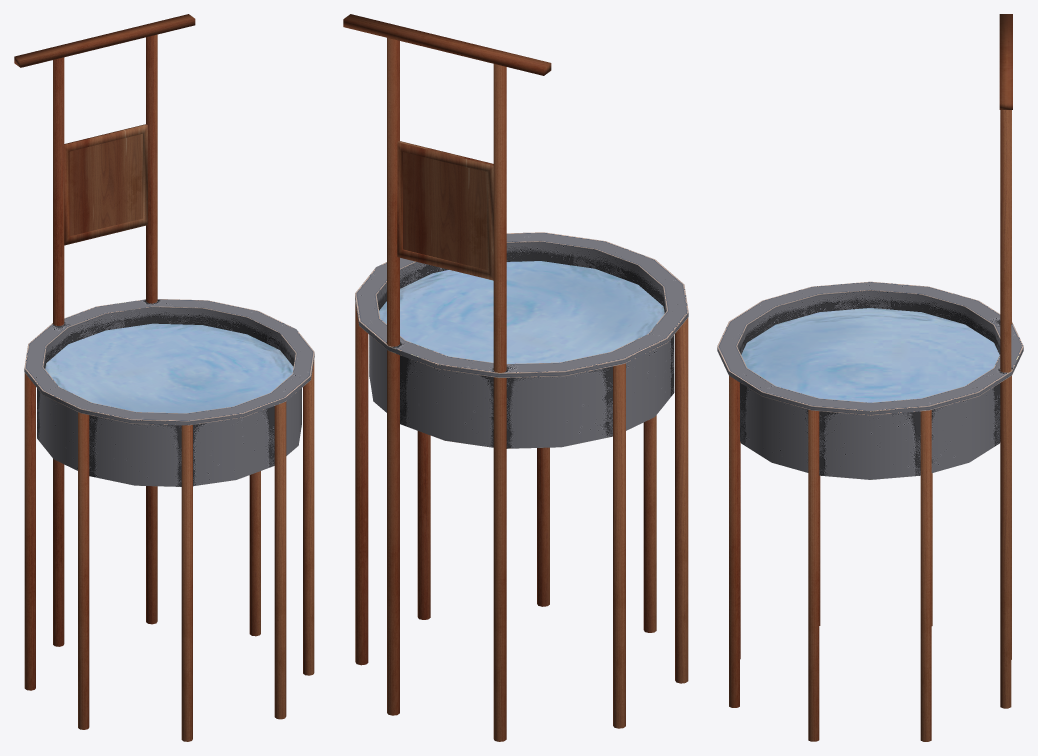
File: Basin_4.FBX
3 views of the same model, side by side, from view 1: azimuth 30°, elevation 25°; view 2: azimuth 150°, elevation 25°; view 3: azimuth 270°, elevation 25° (orthographic). The views are drawn at different scales.
Parts seen in each view (by area): view 1: Basin_4, Basin_4_w; view 2: Basin_4, Basin_4_w; view 3: Basin_4, Basin_4_w.
Part boxes in pixels (bbox=[...]): Basin_4: bbox=[14, 14, 314, 741]; Basin_4_w: bbox=[45, 323, 293, 413]; Basin_4: bbox=[343, 14, 688, 741]; Basin_4_w: bbox=[379, 261, 664, 363]; Basin_4: bbox=[717, 14, 1023, 741]; Basin_4_w: bbox=[741, 308, 999, 402].
Size of the model in its own units: 26.69 by 59.9 by 26.69.
